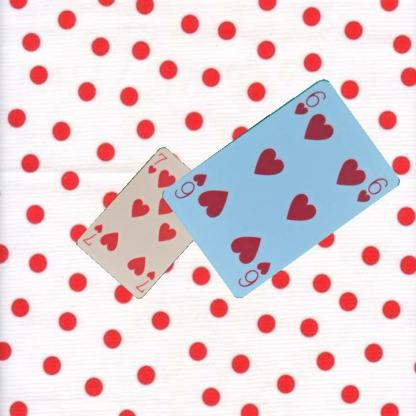6h: (235, 258, 272, 288), (291, 87, 328, 116)
7h: (145, 150, 169, 175), (133, 268, 156, 294)
